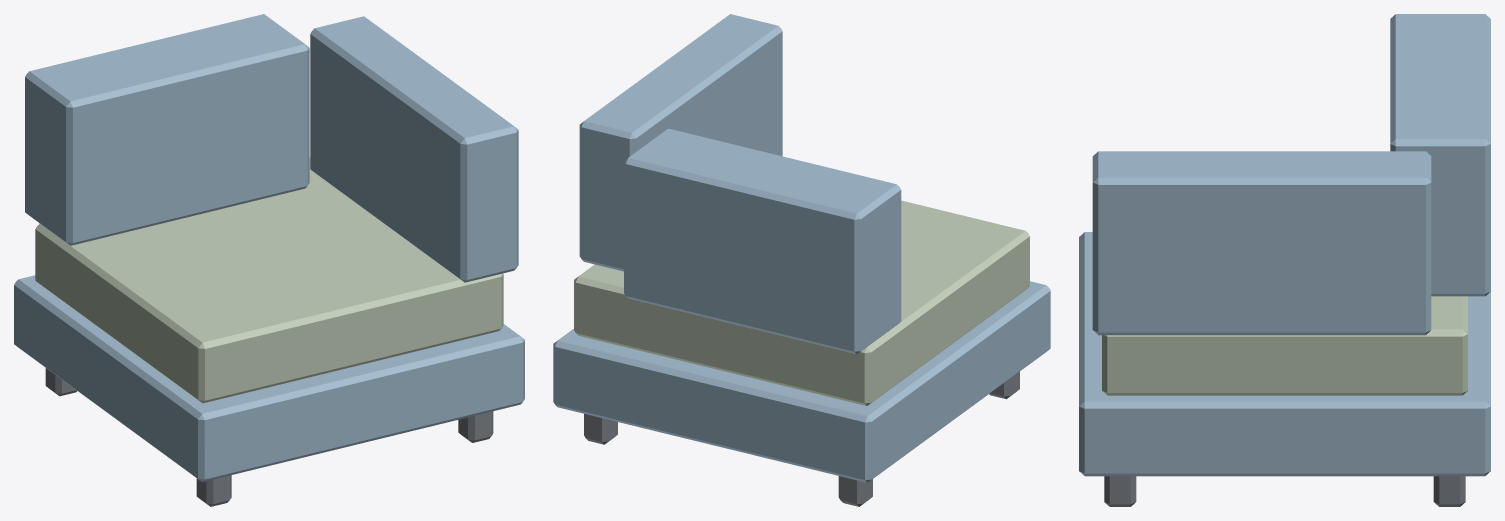
Rendered from Corner_1.glb.
3 renders of one model, left to right at view 1: azimuth 30°, elevation 25°; view 2: azimuth 150°, elevation 25°; view 3: azimuth 270°, elevation 25°, orthographic. The views are drawn at different scales.
Visible parts, largest first — view 1: Sofa_Corner_1_Body; view 2: Sofa_Corner_1_Body; view 3: Sofa_Corner_1_Body.
Part boxes in pixels (<box>): Sofa_Corner_1_Body: <box>14,14,524,506</box>; Sofa_Corner_1_Body: <box>553,14,1050,506</box>; Sofa_Corner_1_Body: <box>1079,14,1490,506</box>.
Bounding box in the file's own units: 0.9 × 0.82 × 0.9.
